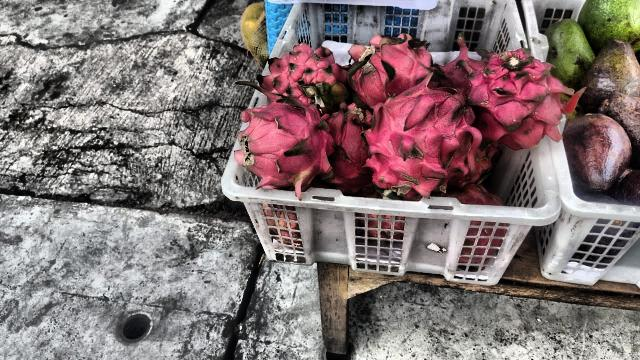buah-naga-matang: (366, 78, 486, 202), (466, 40, 564, 154), (232, 91, 334, 195), (346, 29, 446, 107), (248, 37, 348, 109), (330, 106, 376, 200)
